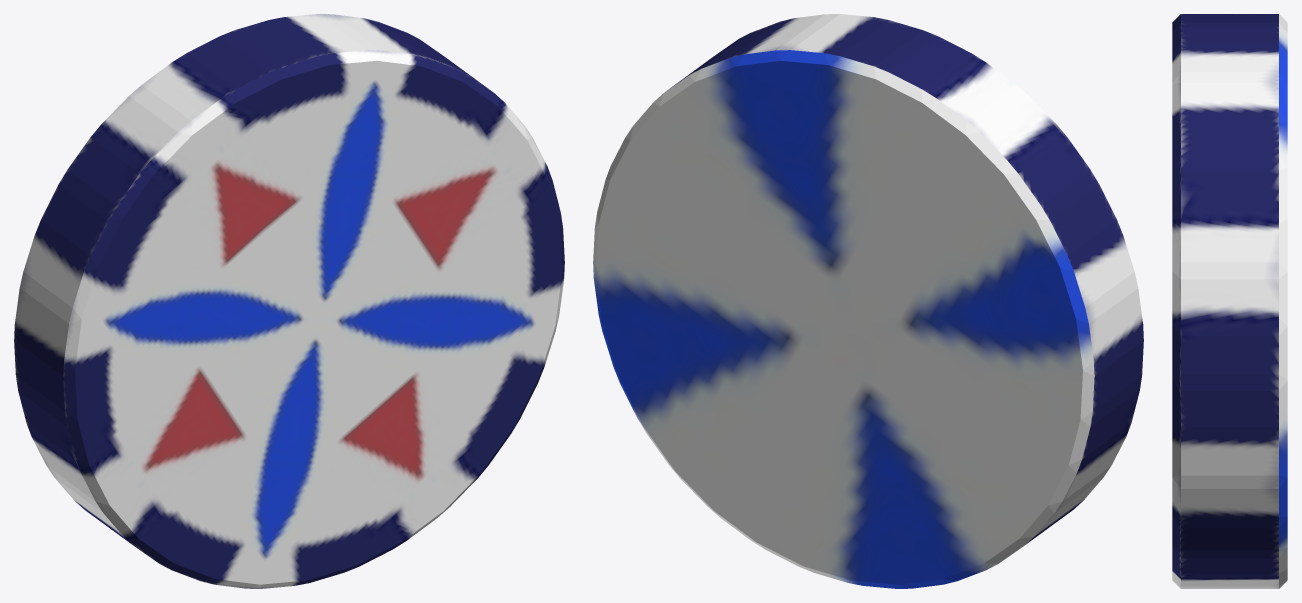
Rendered from jeton.obj.
3 views of the same model, side by side, from view 1: azimuth 30°, elevation 25°; view 2: azimuth 150°, elevation 25°; view 3: azimuth 270°, elevation 25° (orthographic).
Parts seen in each view (by area): view 1: Cylinder.002_Cylinder.005; view 2: Cylinder.002_Cylinder.005; view 3: Cylinder.002_Cylinder.005.
Part boxes in pixels (x1=…): Cylinder.002_Cylinder.005: x1=14, y1=14, x2=564, y2=588; Cylinder.002_Cylinder.005: x1=593, y1=14, x2=1143, y2=588; Cylinder.002_Cylinder.005: x1=1172, y1=14, x2=1287, y2=588.
Size of the model in its own units: 0.4937 by 0.4937 by 0.099.
